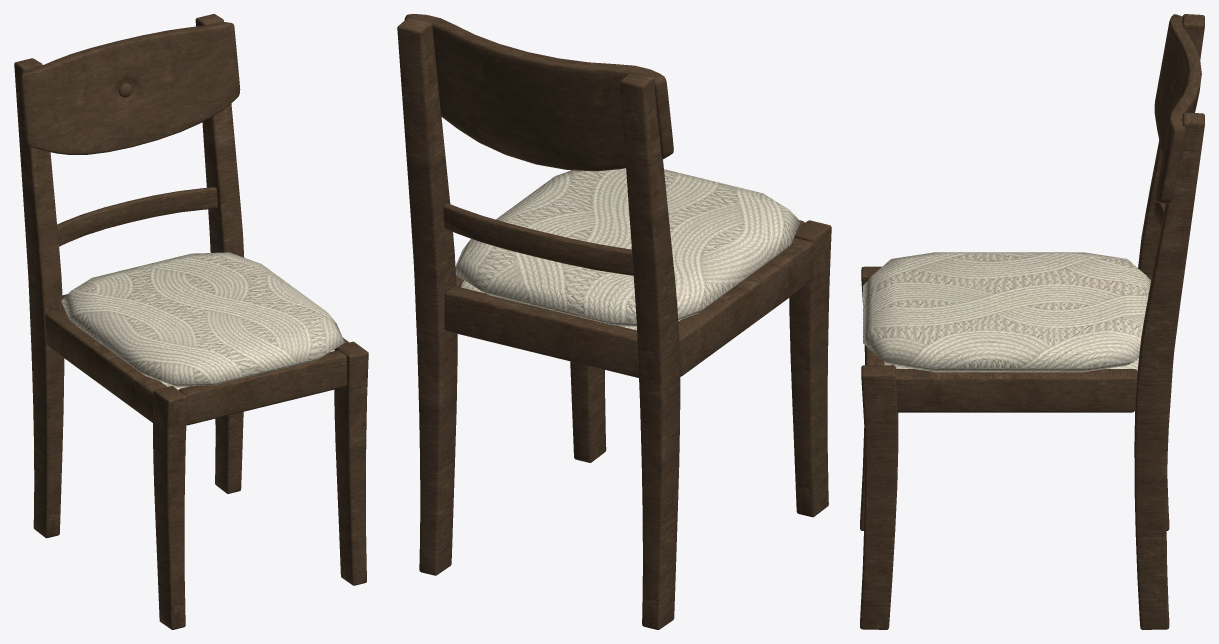
3 views of the same model, side by side, from view 1: azimuth 30°, elevation 25°; view 2: azimuth 150°, elevation 25°; view 3: azimuth 270°, elevation 25° (orthographic). The views are drawn at different scales.
Visible parts, largest first — view 1: Rustic chair; view 2: Rustic chair; view 3: Rustic chair.
Part boxes in pixels (x1,y1,x2,y2): Rustic chair: (14,14,368,629); Rustic chair: (397,14,831,629); Rustic chair: (860,14,1204,629).
Size of the model in its own units: 0.4379 by 0.8988 by 0.5516.
Materials: 2 (2 with a texture image).
